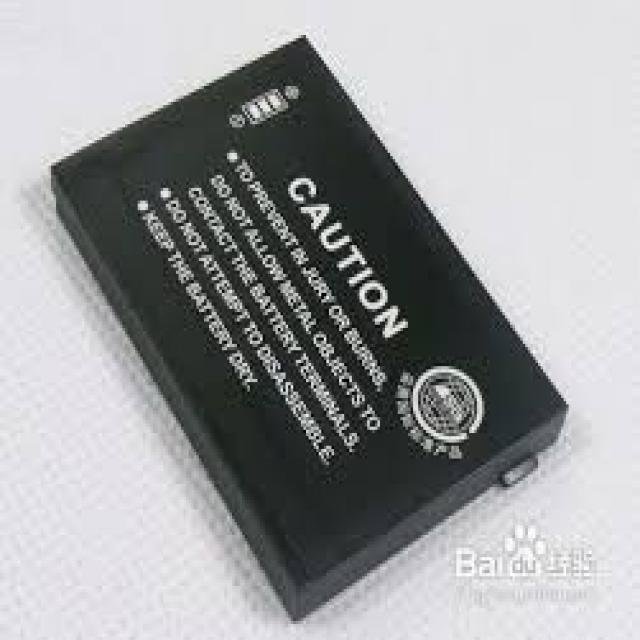non-organic waste: (47, 32, 567, 623)
